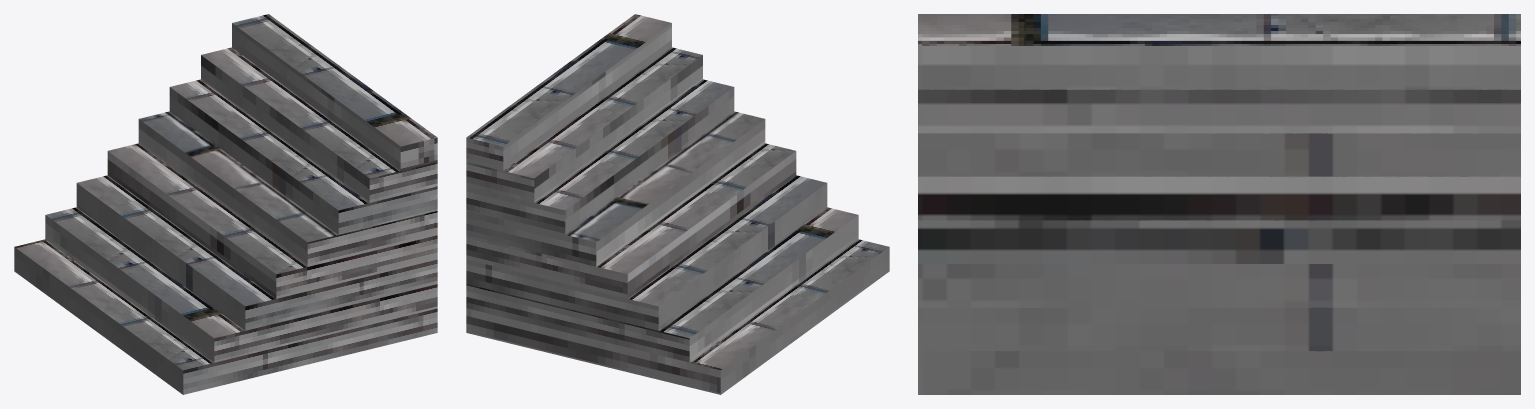
Rendered from LowPoly_Tomedelic_StoneStairs_01.fbx.
The picture shows the model from 3 angles, left to right: view 1: azimuth 30°, elevation 25°; view 2: azimuth 150°, elevation 25°; view 3: azimuth 270°, elevation 25°; orthographic projection. The views are drawn at different scales.
Visible parts, largest first — view 1: Wall; view 2: Wall; view 3: Wall.
Part boxes in pixels (left/top/right/bottom): Wall: left=14, top=14, right=437, bottom=394; Wall: left=466, top=14, right=889, bottom=394; Wall: left=918, top=14, right=1520, bottom=394.
Bounding box in the file's own units: 81.86 × 60.06 × 94.06.
1 material, 1 textured.
